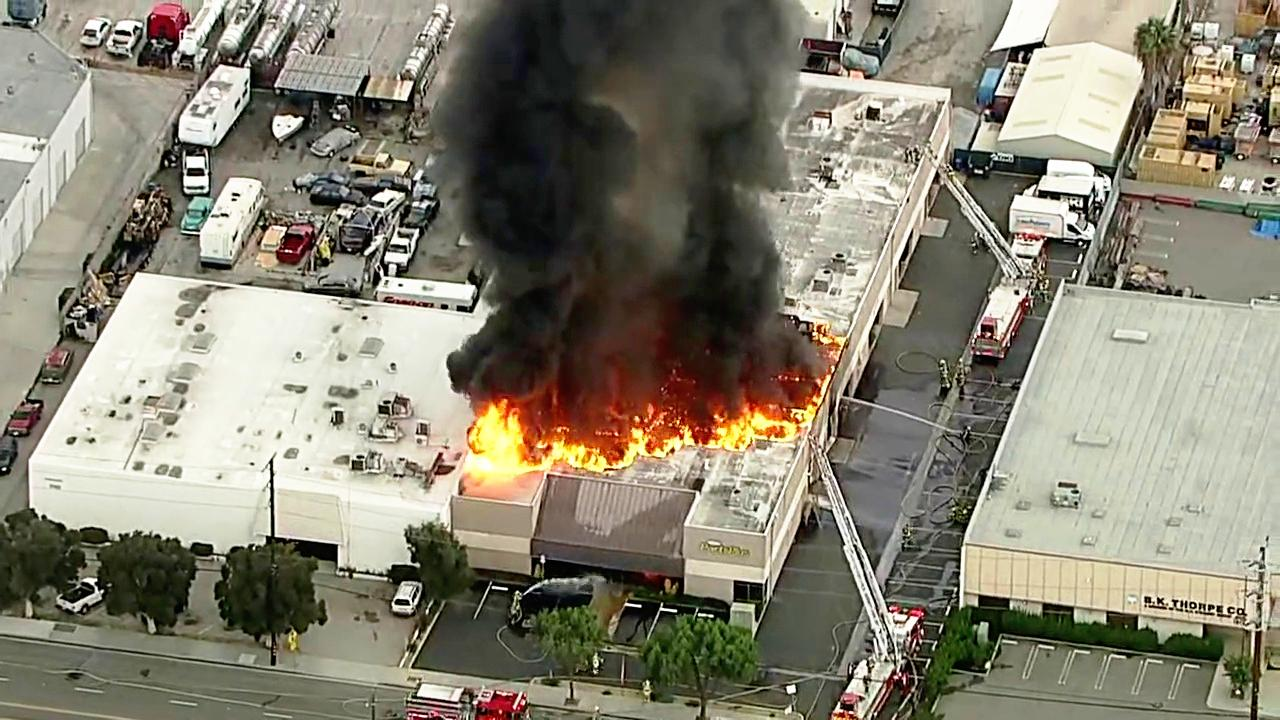fire: (517, 419, 668, 470), (710, 394, 802, 452), (461, 397, 523, 478)
smoke: (467, 61, 785, 387)
